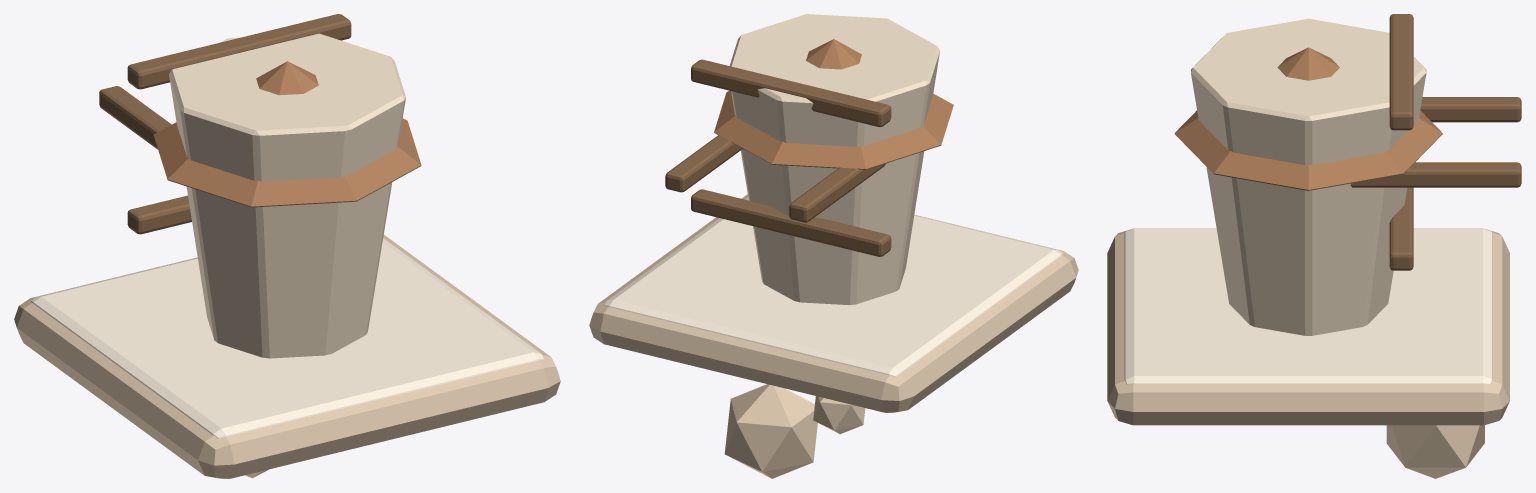
The model's file is island_chunking.glb.
3 views of the same model, side by side, from view 1: azimuth 30°, elevation 25°; view 2: azimuth 150°, elevation 25°; view 3: azimuth 270°, elevation 25° (orthographic). The views are drawn at different scales.
Visible parts, largest first — view 1: island_chunking; view 2: island_chunking; view 3: island_chunking.
Part boxes in pixels (x1,y1,x2,y2): island_chunking: [14, 14, 560, 478]; island_chunking: [589, 14, 1078, 478]; island_chunking: [1107, 14, 1521, 478].
Size of the model in its own units: 1.56 by 1.84 by 1.61.
